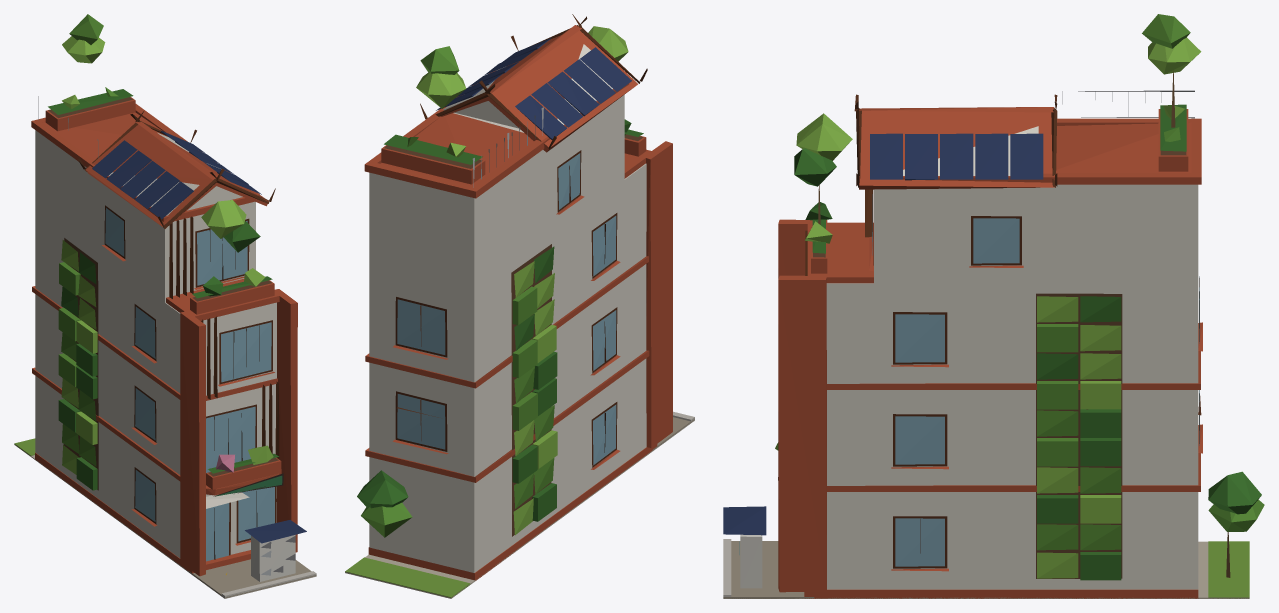
File: bay2_one.glb
3 views of the same model, side by side, from view 1: azimuth 30°, elevation 25°; view 2: azimuth 150°, elevation 25°; view 3: azimuth 270°, elevation 25° (orthographic). The views are drawn at different scales.
Visible parts, largest first — view 1: body; view 2: body; view 3: body.
Part boxes in pixels (box(x1,y1,x2,y2)): body: box(14, 14, 316, 598); body: box(345, 14, 694, 598); body: box(723, 14, 1264, 598).
Bounding box in the file's own units: 5.19 × 18.43 × 16.36.
